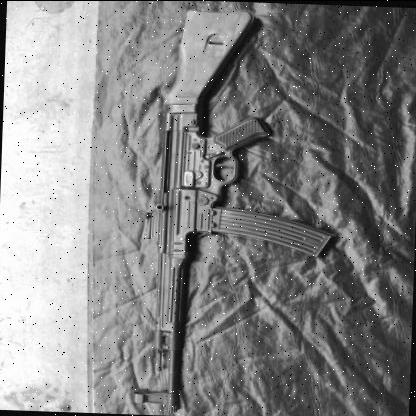rifle: (115, 9, 345, 414)
